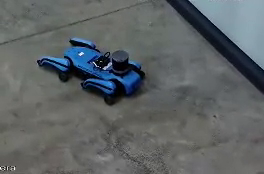robot dog: (32, 33, 149, 112)
